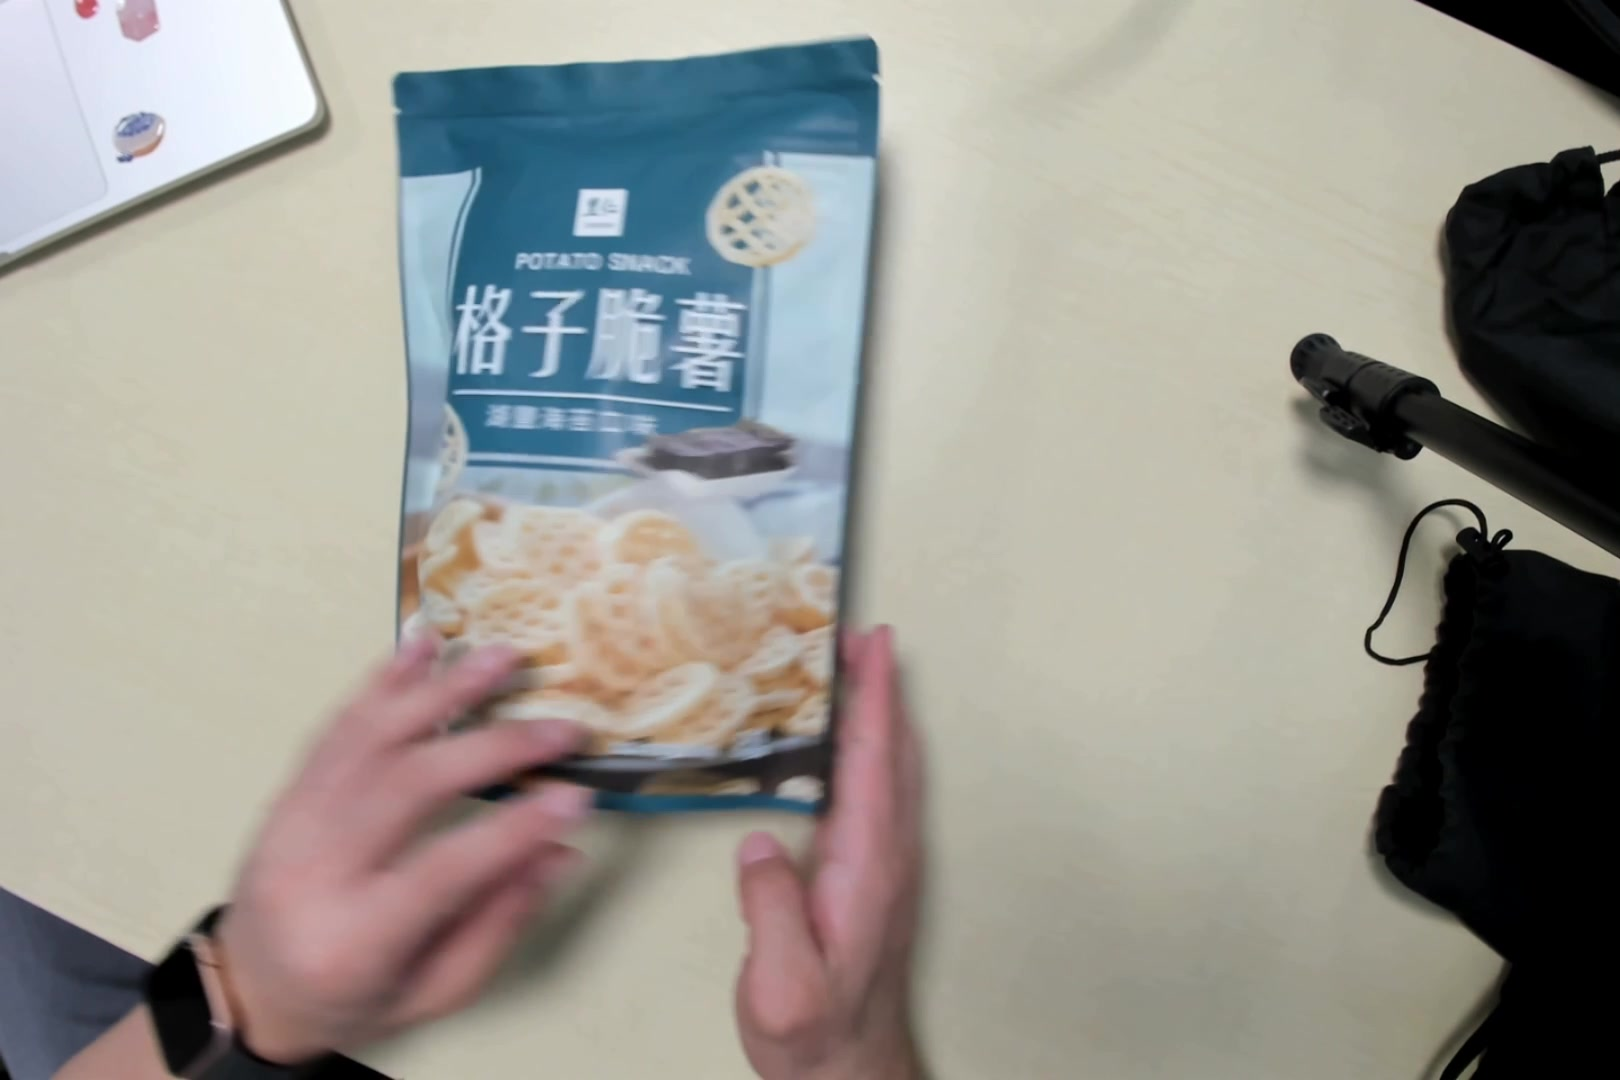PotatoChipsKeropok_100-199g_NonHalal_NonHealthy: (397, 78, 830, 809)
